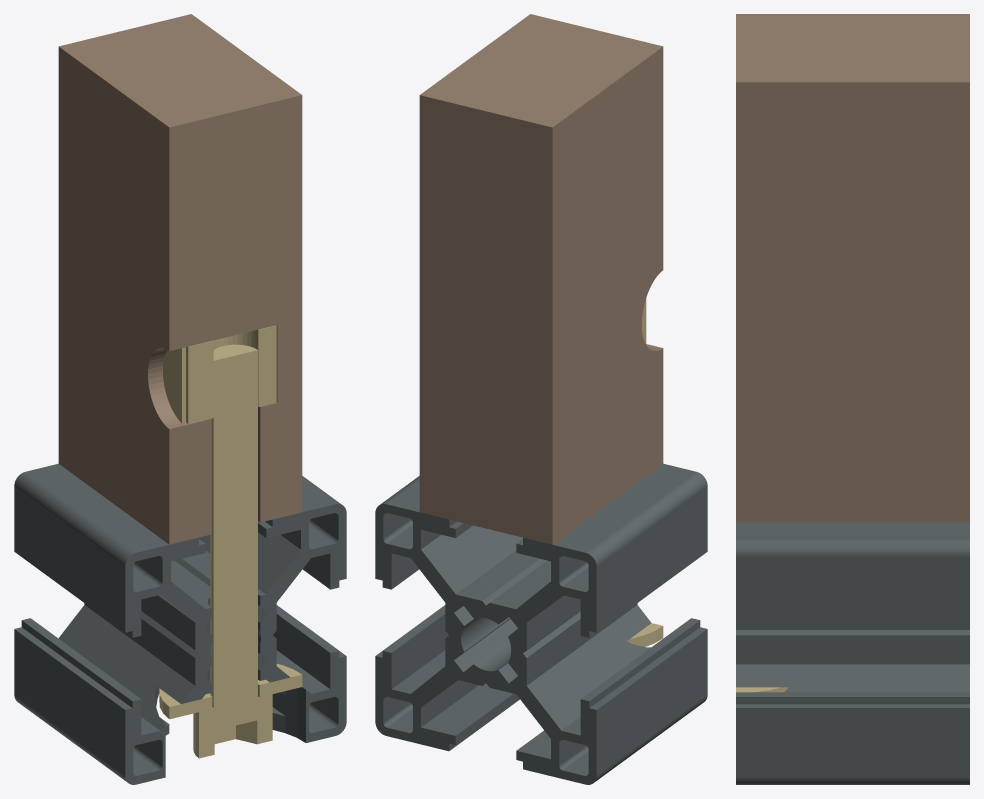
Rendered from section-detail.glb.
3 renders of one model, left to right at view 1: azimuth 30°, elevation 25°; view 2: azimuth 150°, elevation 25°; view 3: azimuth 270°, elevation 25°, orthographic. The views are drawn at different scales.
Visible parts, largest first — view 1: Right-wall-18, Beam-body-side-966, Right-wall-M6x45-Bottom-97, Right-wall-cross-dowel-Bottom-97, Right-wall-washer-Bottom-97; view 2: Right-wall-18, Beam-body-side-966; view 3: Right-wall-18, Beam-body-side-966.
Part boxes in pixels (bbox=[...]): Right-wall-18: bbox=[58, 14, 302, 544]; Beam-body-side-966: bbox=[14, 463, 346, 784]; Right-wall-M6x45-Bottom-97: bbox=[193, 344, 272, 758]; Right-wall-cross-dowel-Bottom-97: bbox=[163, 325, 276, 424]; Right-wall-washer-Bottom-97: bbox=[159, 663, 302, 719]; Right-wall-18: bbox=[419, 14, 663, 544]; Beam-body-side-966: bbox=[375, 463, 707, 784]; Right-wall-18: bbox=[736, 14, 969, 522]; Beam-body-side-966: bbox=[736, 522, 969, 784].
Bounding box in the file's own units: 0.03 × 0.084 × 0.026.
